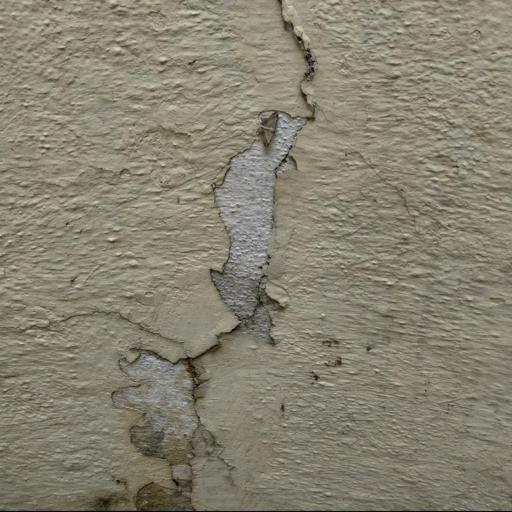peeling: (93, 0, 339, 512)
